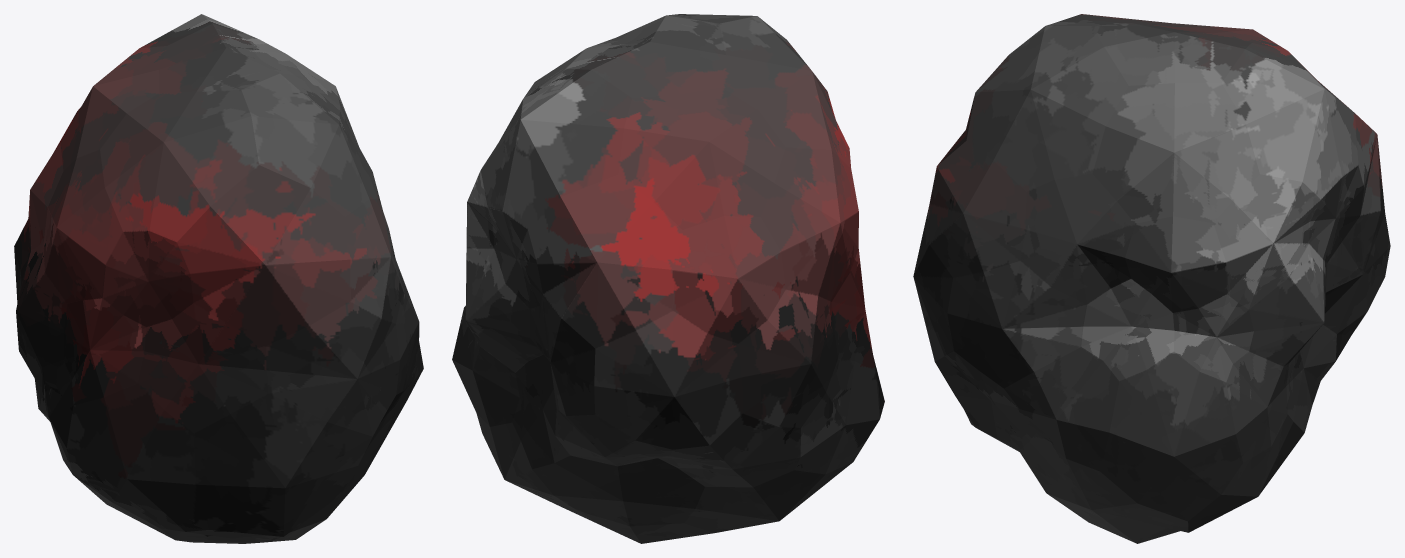
File: BloodRock4.glb
3 views of the same model, side by side, from view 1: azimuth 30°, elevation 25°; view 2: azimuth 150°, elevation 25°; view 3: azimuth 270°, elevation 25° (orthographic). The views are drawn at different scales.
Visible parts, largest first — view 1: BloodRock4; view 2: BloodRock4; view 3: BloodRock4.
Boxes of the visible parts, box(x1,y1,x2,y2) form: BloodRock4: box(14, 14, 423, 543); BloodRock4: box(452, 14, 884, 543); BloodRock4: box(913, 14, 1390, 543).
Size of the model in its own units: 2.62 by 3.3 by 2.94.
Materials: 1 (1 with a texture image).
